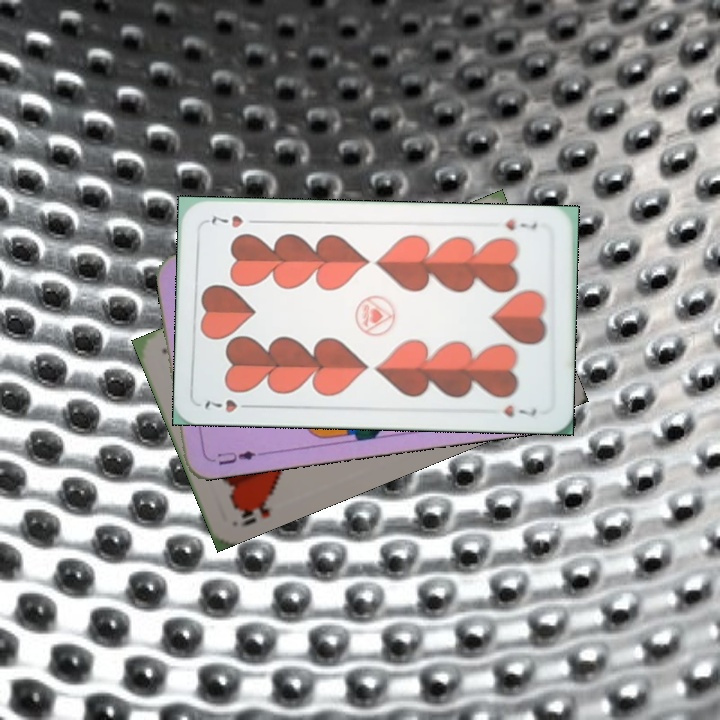EU: (214, 446, 258, 468)
H7: (201, 395, 257, 415), (502, 215, 540, 233)
HO: (230, 493, 273, 530)
